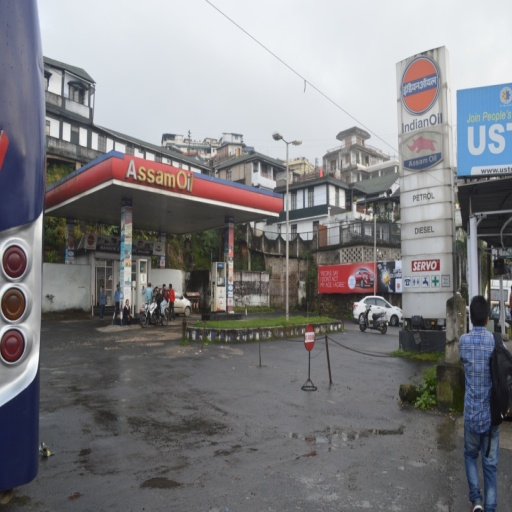roof: (48, 155, 280, 234)
